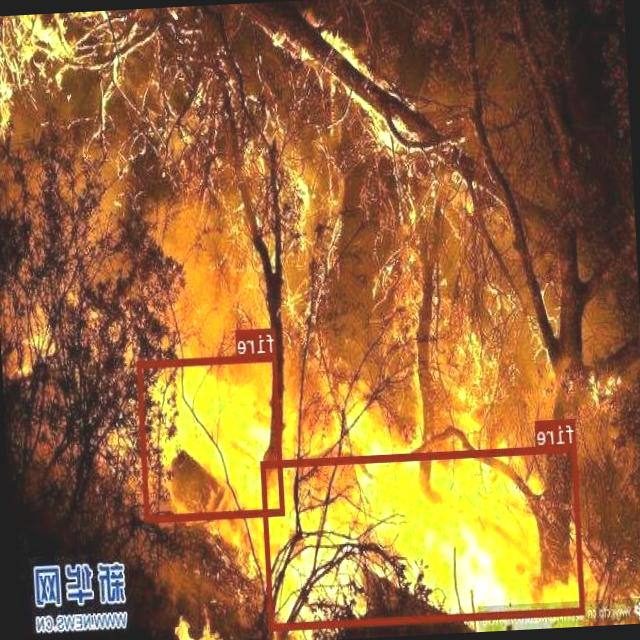fire: (262, 444, 586, 629), (138, 353, 286, 521)
